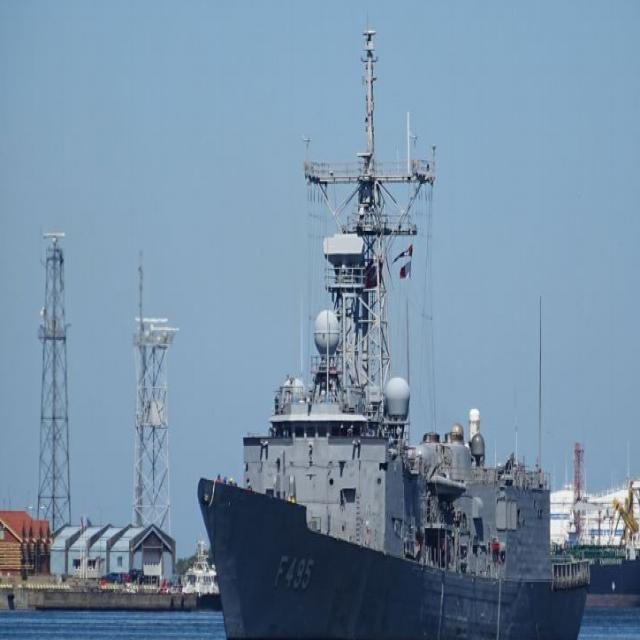Fragata: (195, 1, 599, 640)
